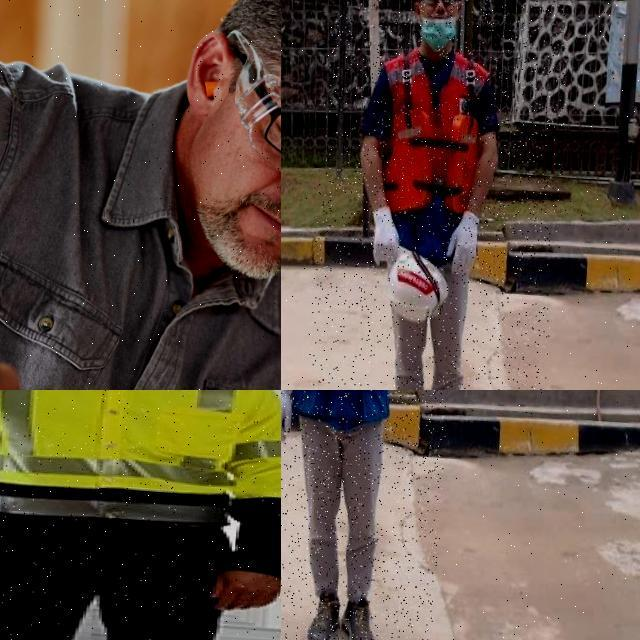boots: (334, 592, 383, 640), (305, 584, 345, 640)
helmet: (380, 242, 450, 326)
vest: (0, 390, 281, 515), (366, 52, 492, 270)
